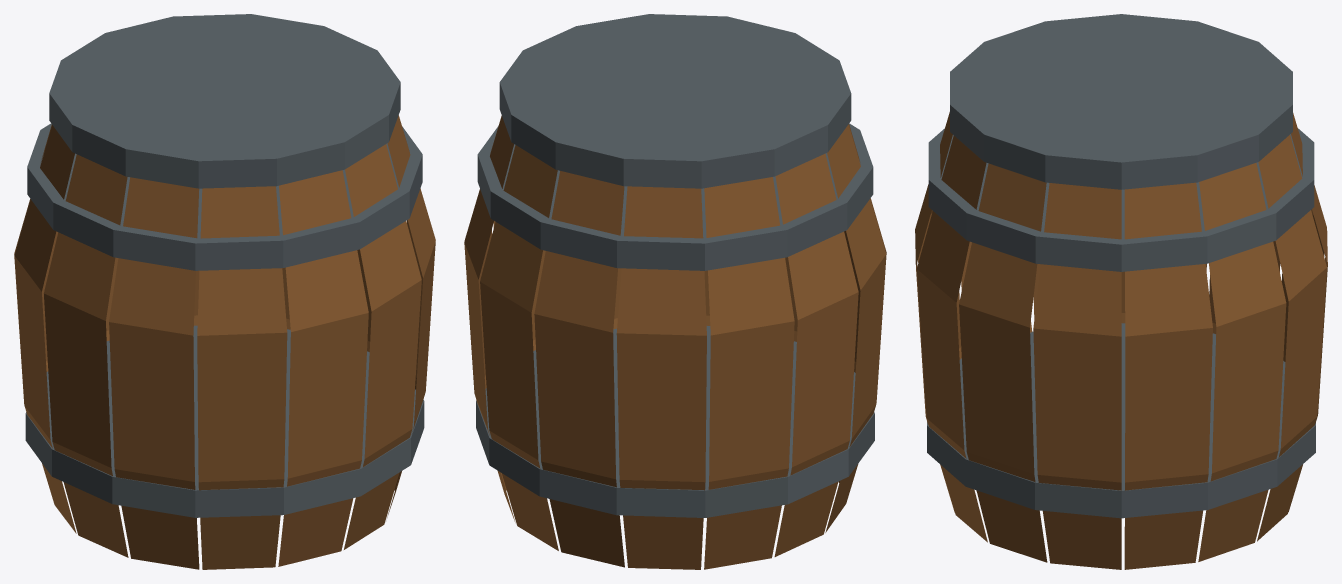
The model's file is Barrel.glb.
3 views of the same model, side by side, from view 1: azimuth 30°, elevation 25°; view 2: azimuth 150°, elevation 25°; view 3: azimuth 270°, elevation 25° (orthographic).
Visible parts, largest first — view 1: Barrel; view 2: Barrel; view 3: Barrel.
Part boxes in pixels (left/top/right/bottom): Barrel: left=14, top=14, right=435, bottom=569; Barrel: left=464, top=14, right=886, bottom=569; Barrel: left=915, top=14, right=1327, bottom=569.
Size of the model in its own units: 0.84 by 0.9 by 0.8222.
